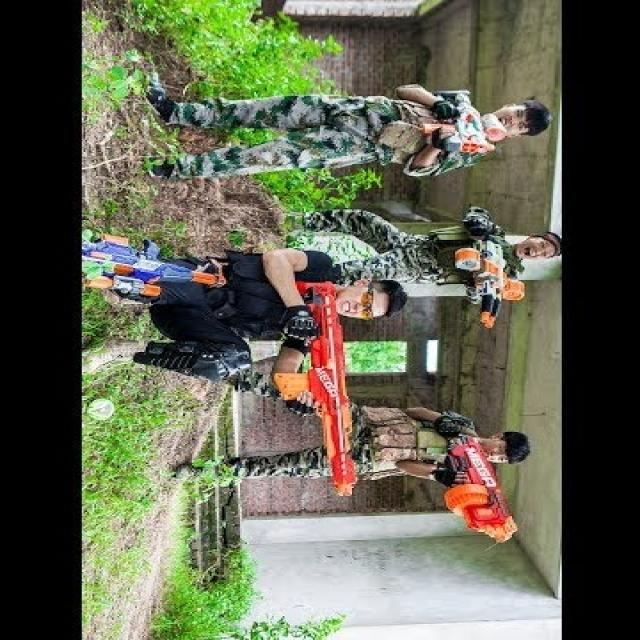Nerf gun: (271, 280, 373, 500), (76, 224, 233, 301), (442, 417, 525, 546), (448, 221, 530, 331), (418, 78, 510, 158)
